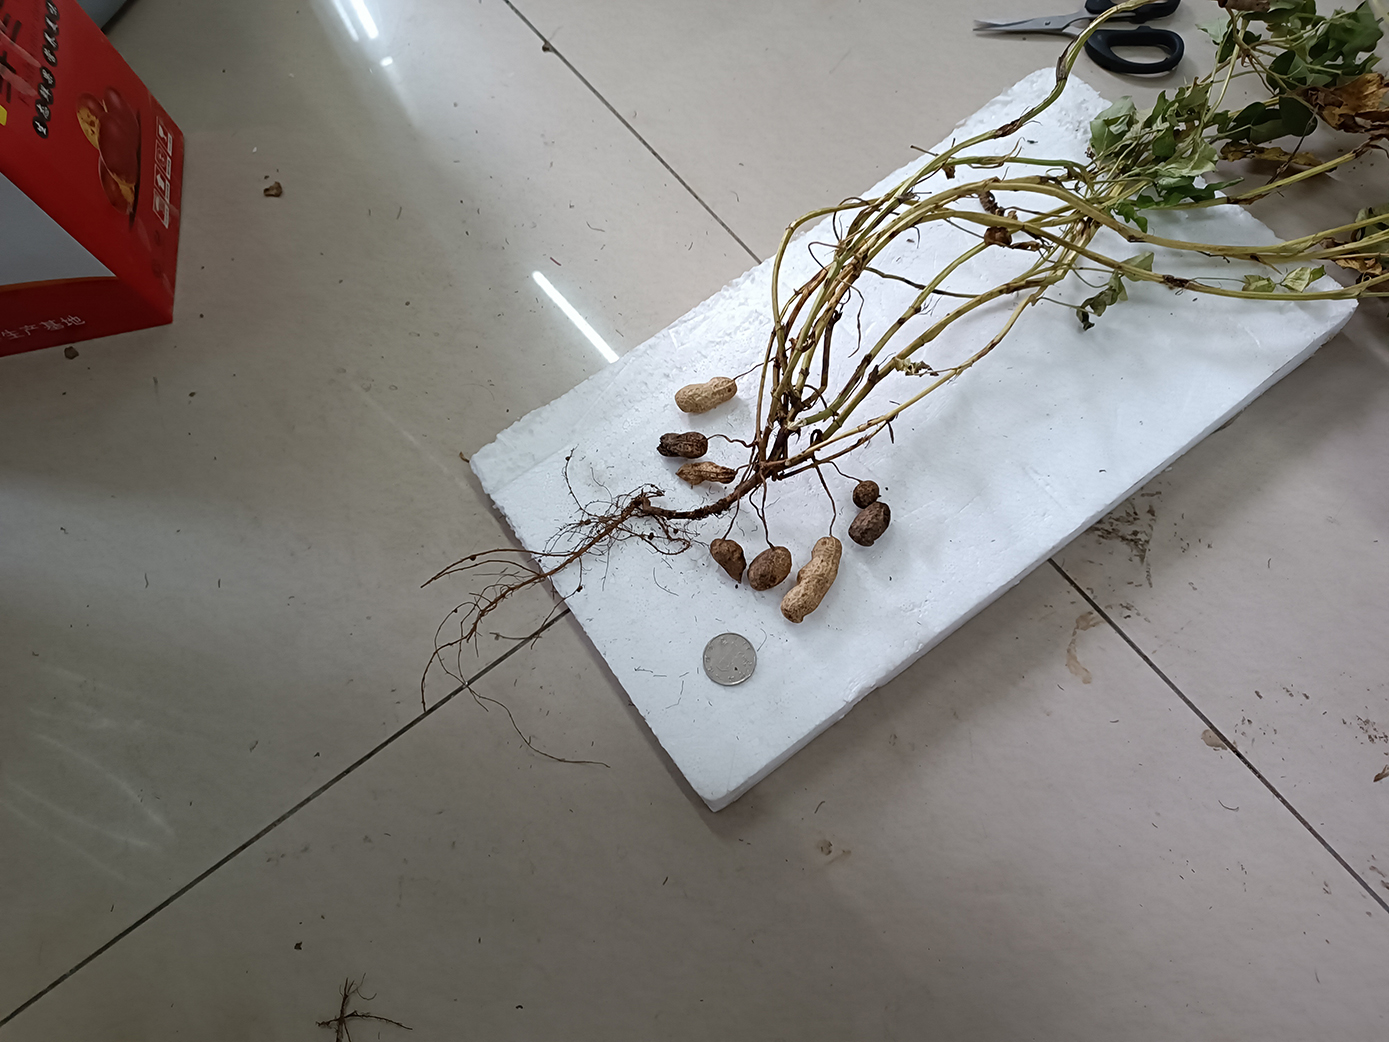h: (782, 536, 843, 622), (674, 377, 737, 413)
l: (746, 546, 791, 591), (848, 502, 891, 547), (710, 539, 746, 584), (656, 431, 710, 458), (676, 463, 737, 485), (850, 479, 882, 509)
